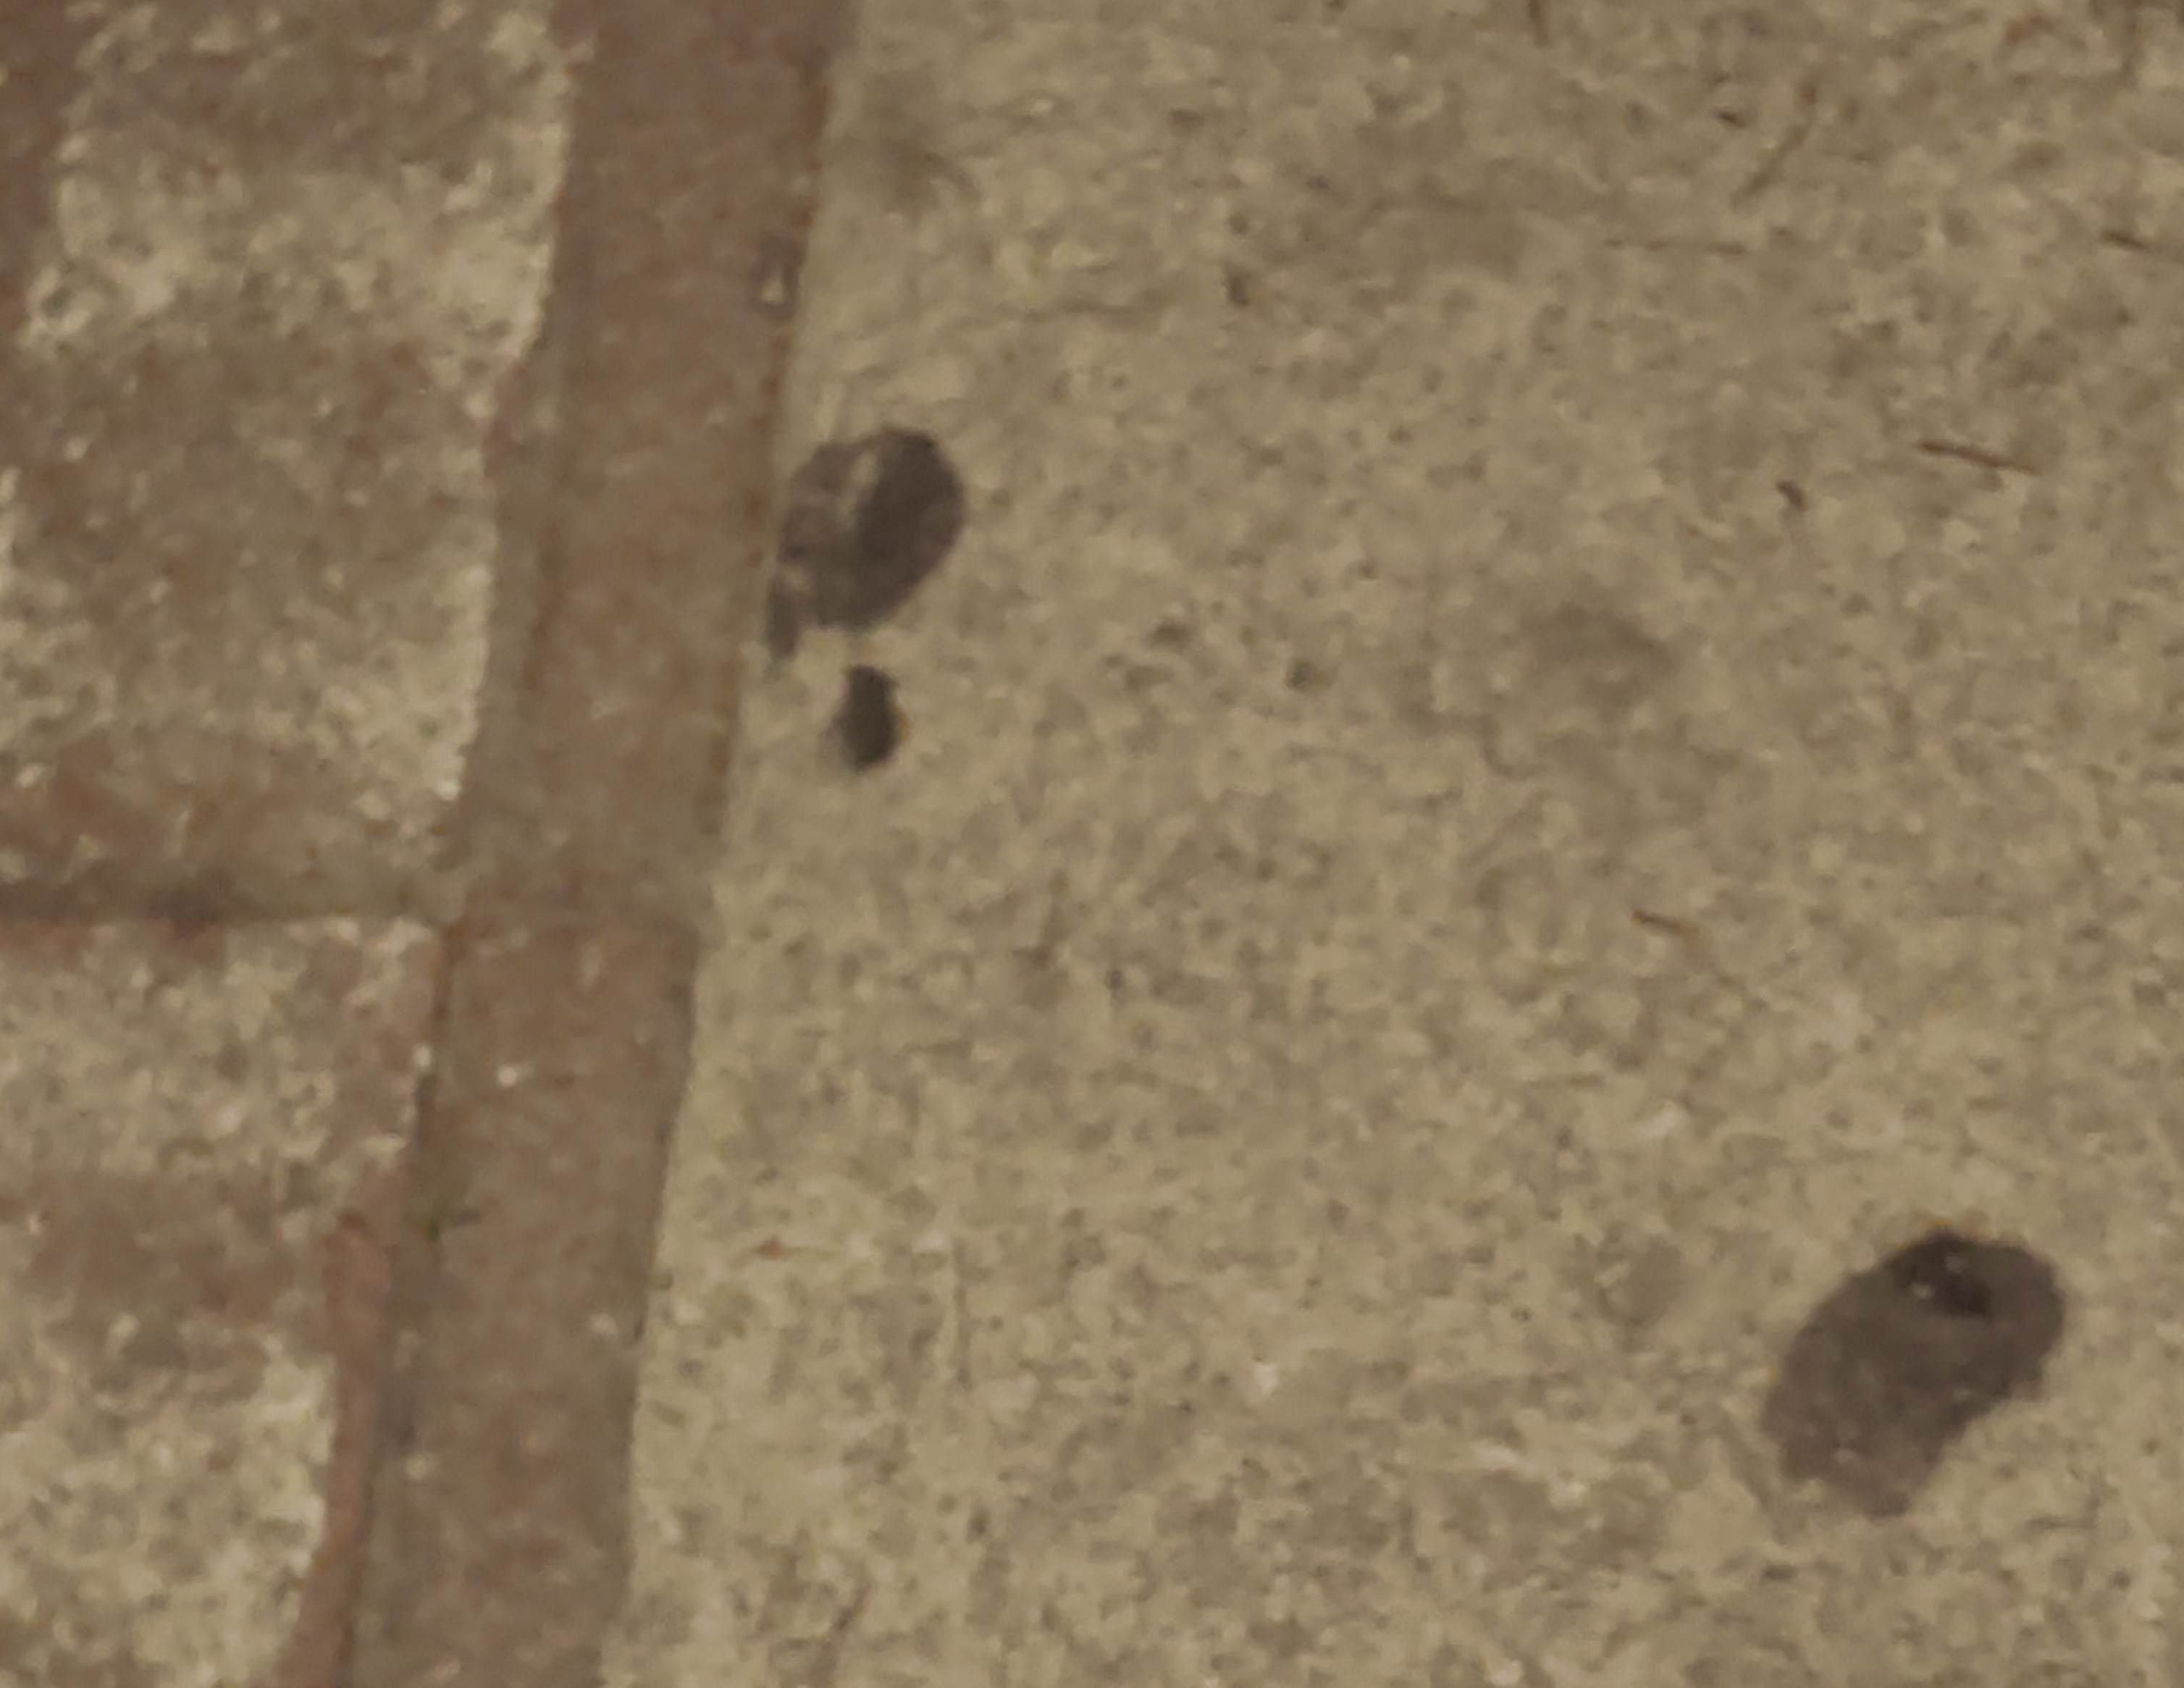grey spot: (1760, 1234, 2067, 1520), (755, 427, 966, 670), (833, 665, 909, 775)
